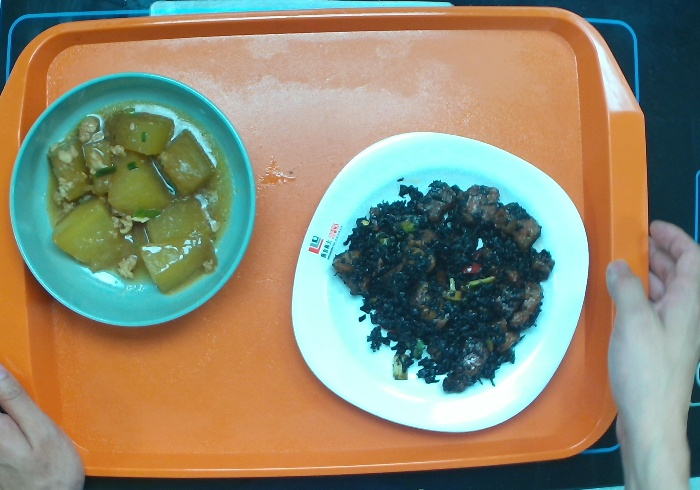ZNLD-Qing_Hua_Yuan_Wan: (7, 69, 257, 328)
ZNLD-Yuan_Jiao_Pan: (289, 129, 591, 433)
